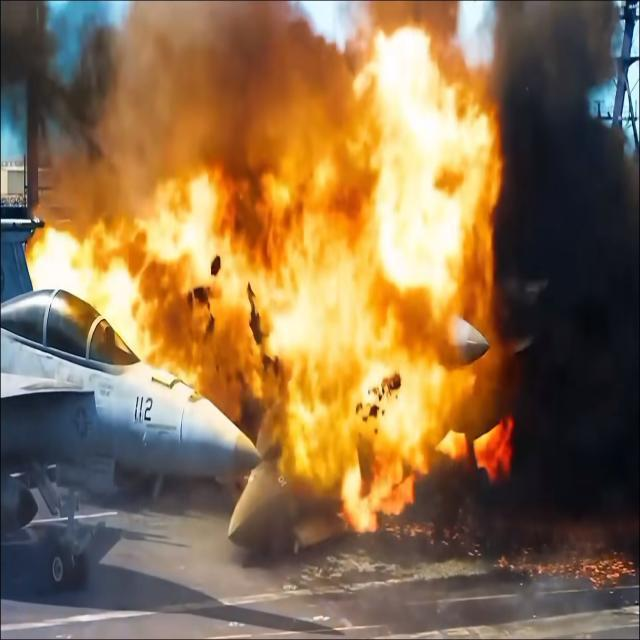fire: (17, 0, 510, 532)
